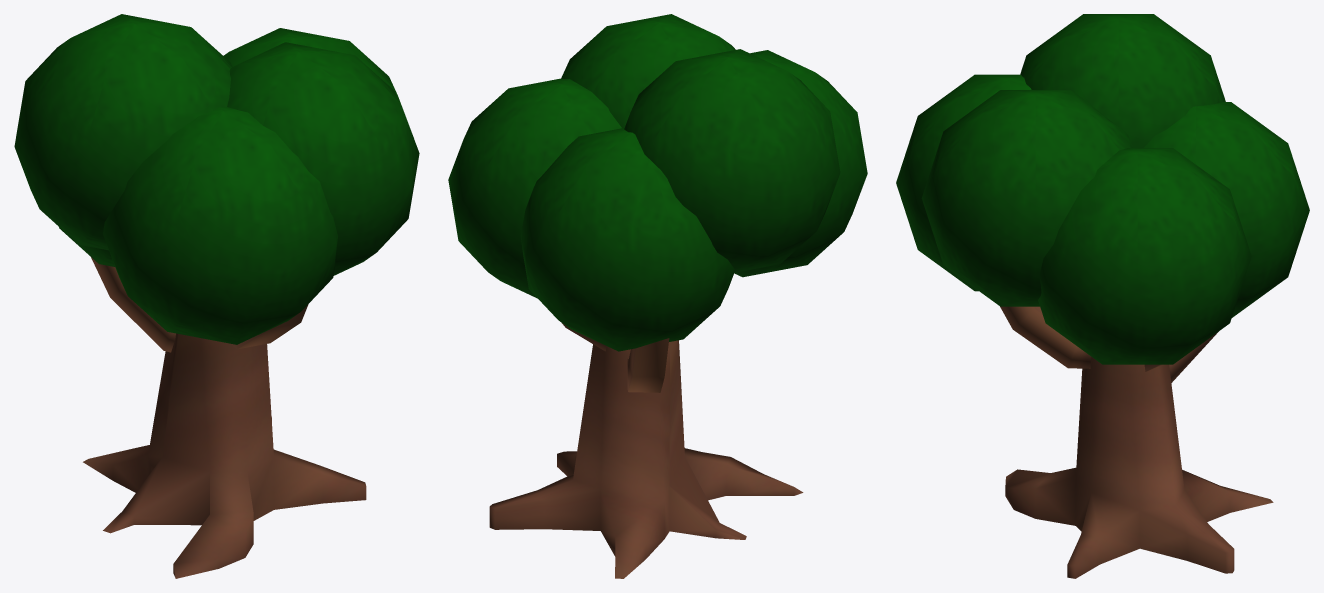
The model's file is oak_tree.fbx.
3 renders of one model, left to right at view 1: azimuth 30°, elevation 25°; view 2: azimuth 150°, elevation 25°; view 3: azimuth 270°, elevation 25°, orthographic. The views are drawn at different scales.
Parts seen in each view (by area): view 1: Icosphere.004; view 2: Icosphere.004; view 3: Icosphere.004.
Part boxes in pixels (x1,y1,x2,y2): Icosphere.004: [14, 14, 419, 578]; Icosphere.004: [448, 14, 867, 578]; Icosphere.004: [896, 14, 1309, 578].
Size of the model in its own units: 11.35 by 14.73 by 11.84.
